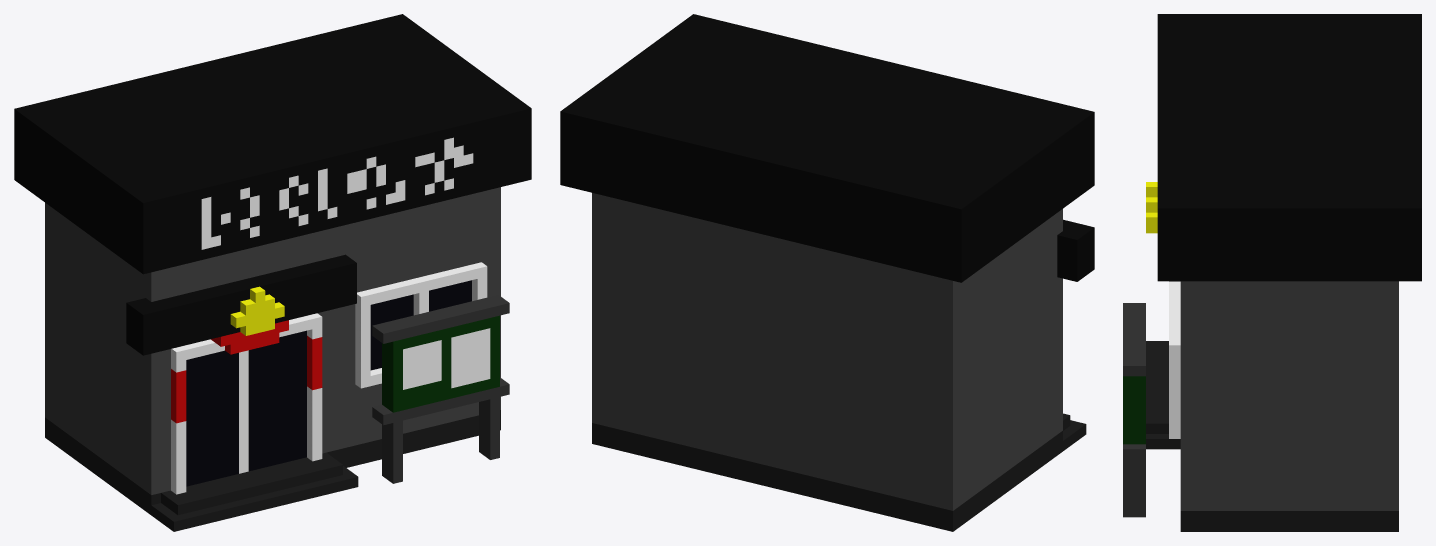
The model's file is Kouban.obj.
3 renders of one model, left to right at view 1: azimuth 30°, elevation 25°; view 2: azimuth 150°, elevation 25°; view 3: azimuth 270°, elevation 25°, orthographic. The views are drawn at different scales.
Parts seen in each view (by area): view 1: 立方体.003; view 2: 立方体.003; view 3: 立方体.003.
Boxes of the visible parts, box(x1,y1,x2,y2) form: 立方体.003: box(14, 14, 531, 531); 立方体.003: box(560, 14, 1094, 531); 立方体.003: box(1123, 14, 1421, 531).
Size of the model in its own units: 40 by 32 by 26.
